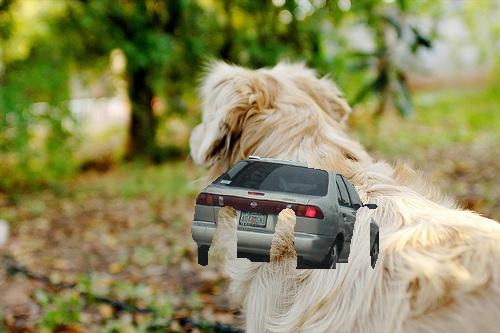tampered: (191, 156, 379, 269)
